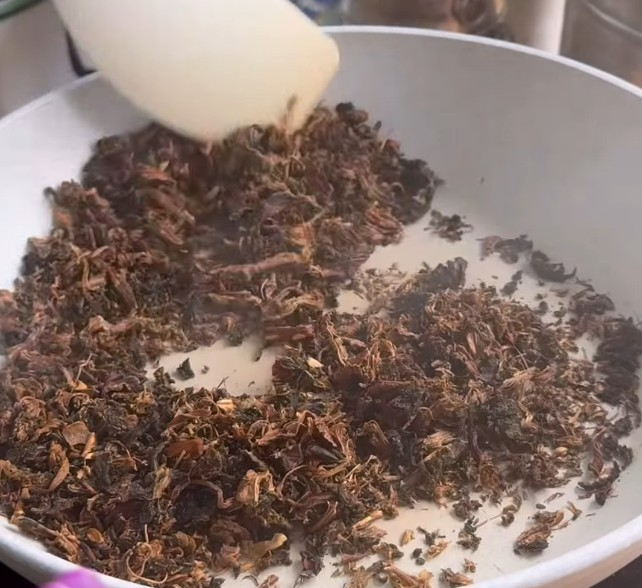gundruk: (17, 120, 597, 539)
